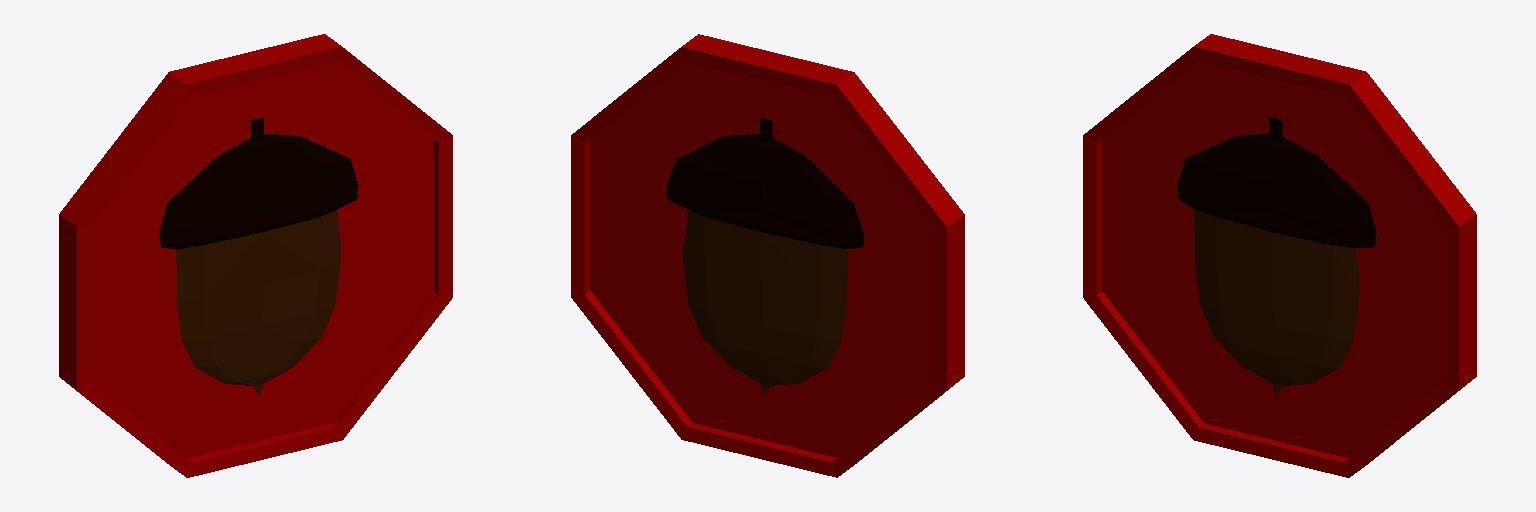
The model's file is squirrelCoin.obj.
3 views of the same model, side by side, from view 1: azimuth 30°, elevation 25°; view 2: azimuth 150°, elevation 25°; view 3: azimuth 330°, elevation 25° (orthographic).
Parts seen in each view (by area): view 1: coin_squirrel; view 2: coin_squirrel; view 3: coin_squirrel.
Part boxes in pixels (bbox=[...]): coin_squirrel: bbox=[59, 34, 452, 477]; coin_squirrel: bbox=[571, 34, 964, 477]; coin_squirrel: bbox=[1083, 34, 1476, 477].
Size of the model in its own units: 1.21 by 1.21 by 0.1008.